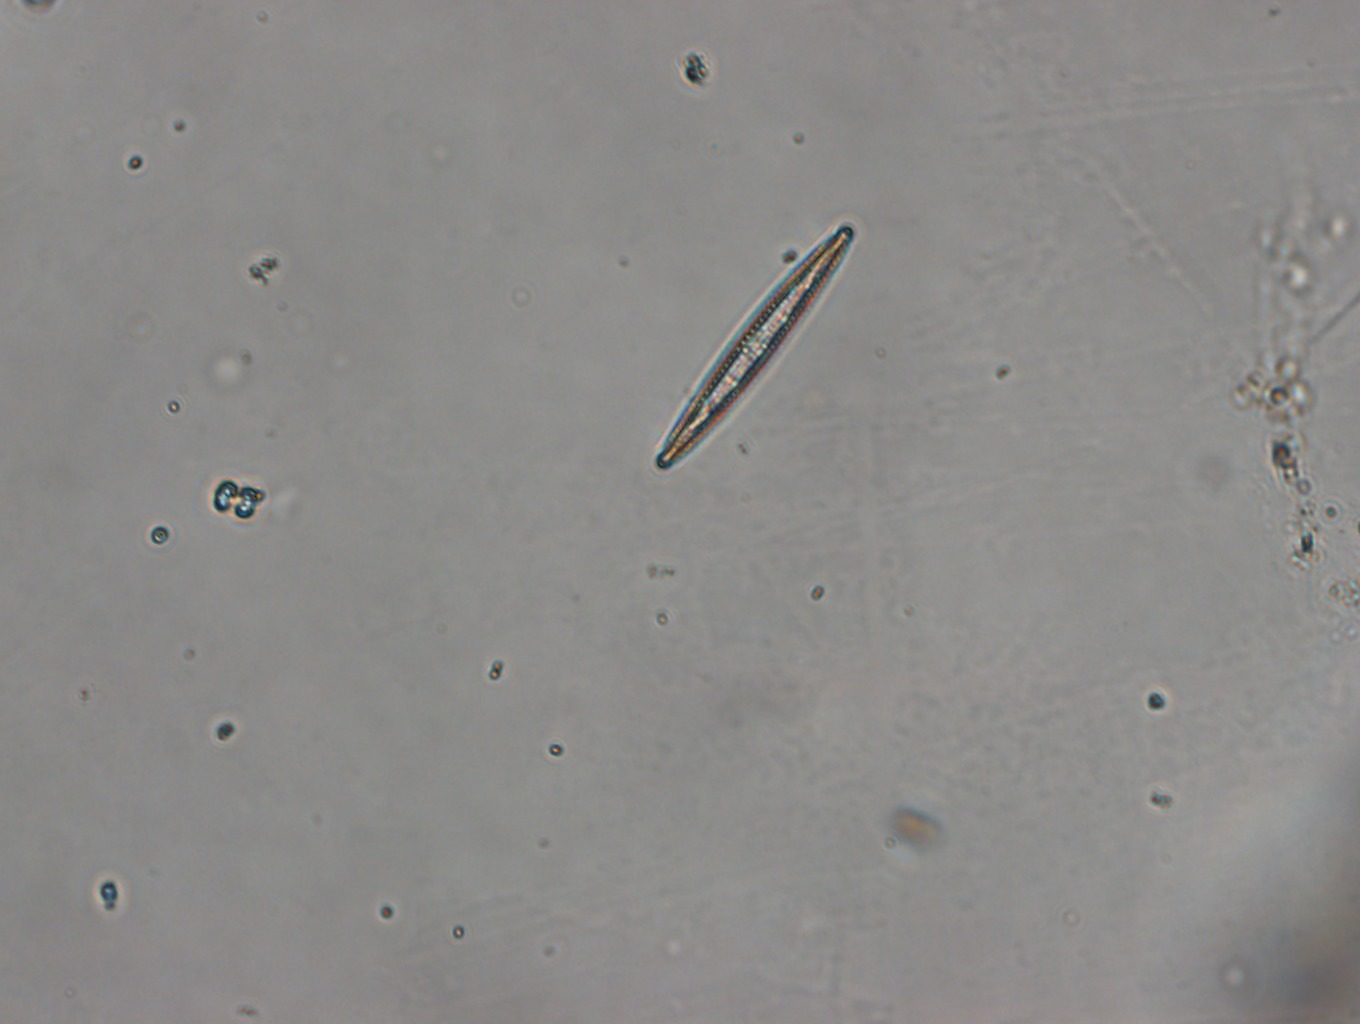navicula: (653, 222, 857, 477)
